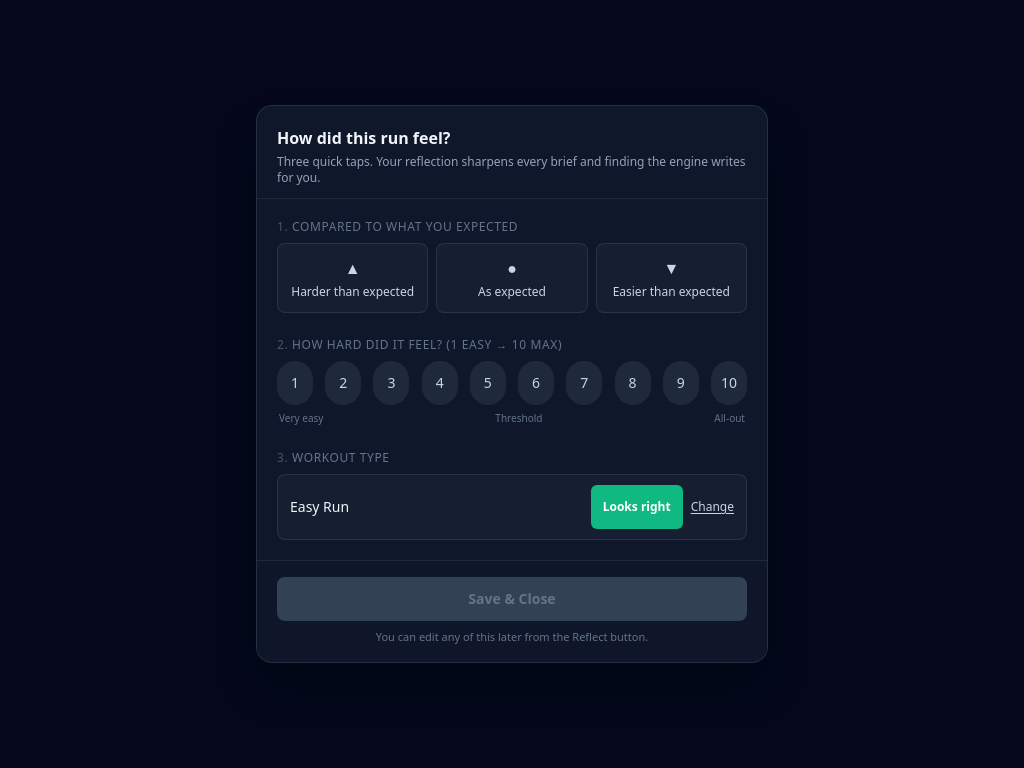
Test: FeedbackModal — save flow › failed save leaves the modal open with selections intact
Step 1. Click the button "▼ Easier than expected" → click(671, 278), box x1=596 y1=243 x2=747 y2=313
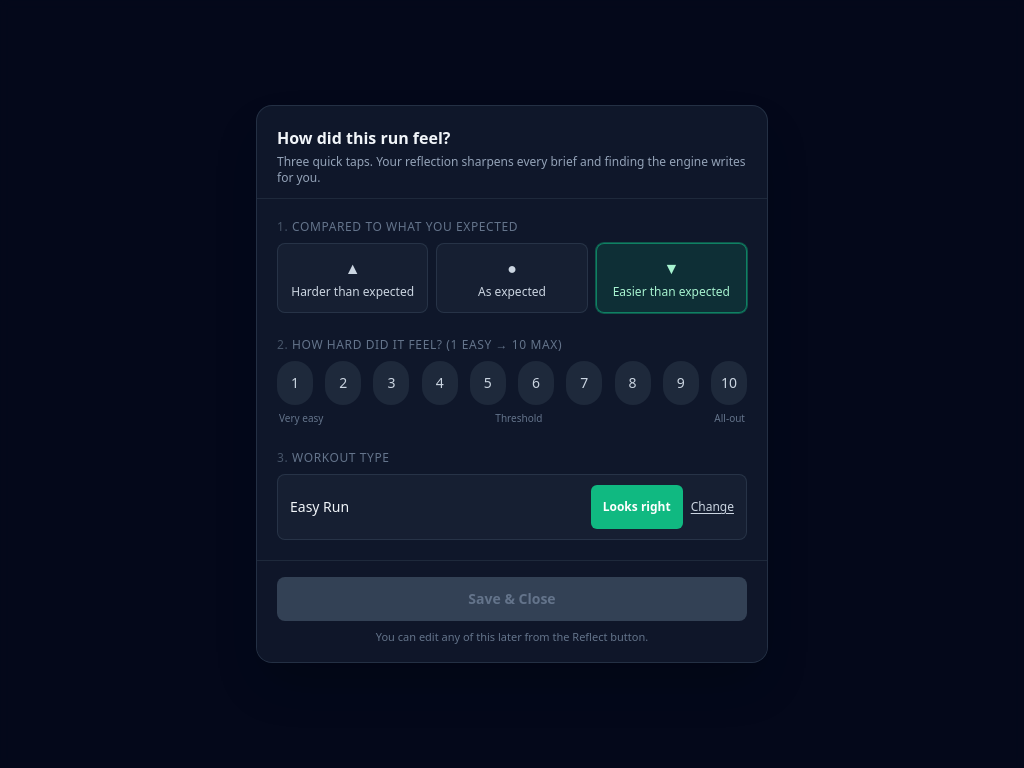
Step 2. Click the button "4" → click(440, 383), box x1=422 y1=361 x2=458 y2=405
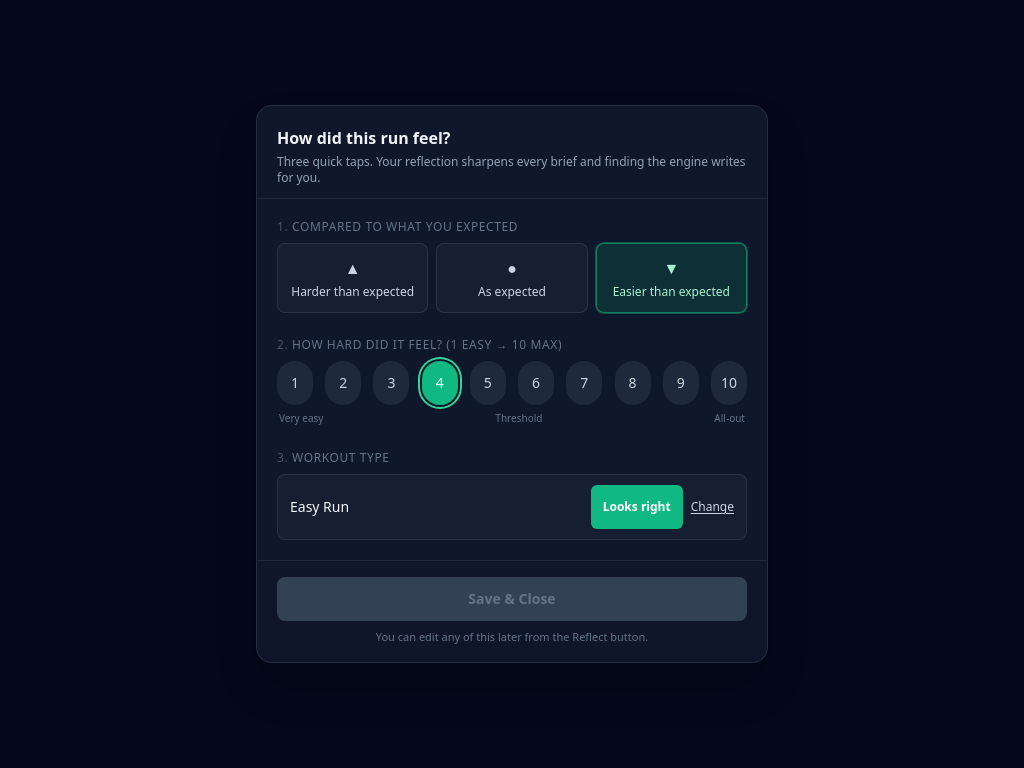
Step 3. Click the button "Looks right" → click(637, 507), box x1=591 y1=485 x2=683 y2=529
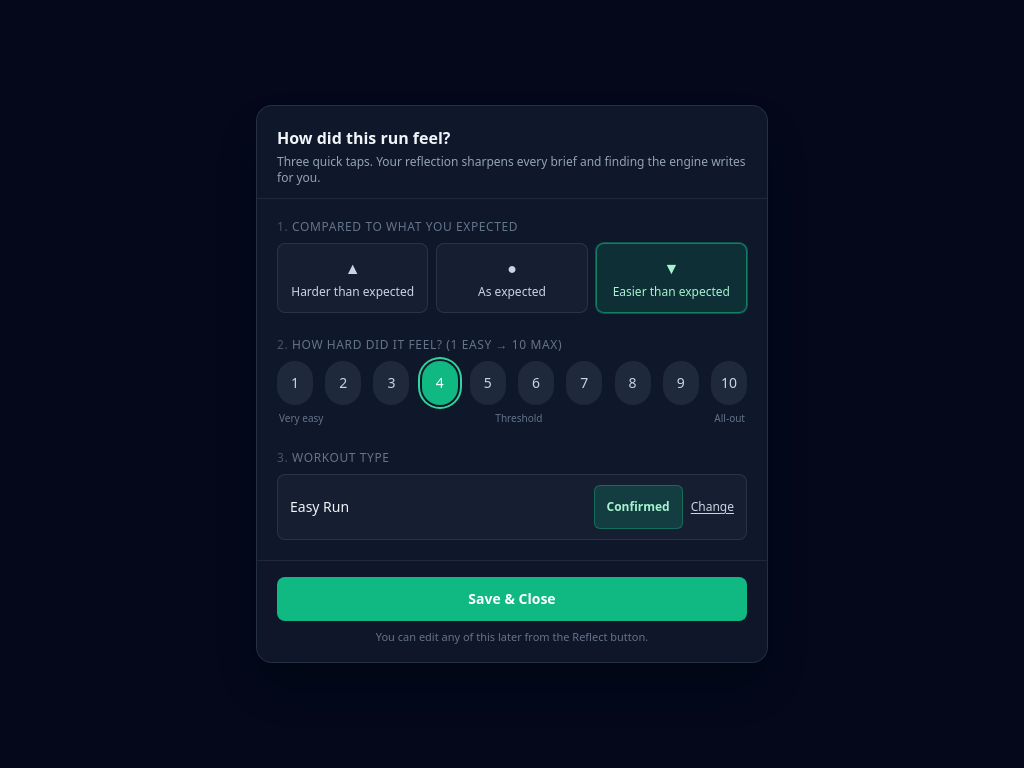
Now the button "Save & Close" is enabled
Step 4. Click the button "Save & Close" → click(512, 599), box x1=277 y1=577 x2=747 y2=621
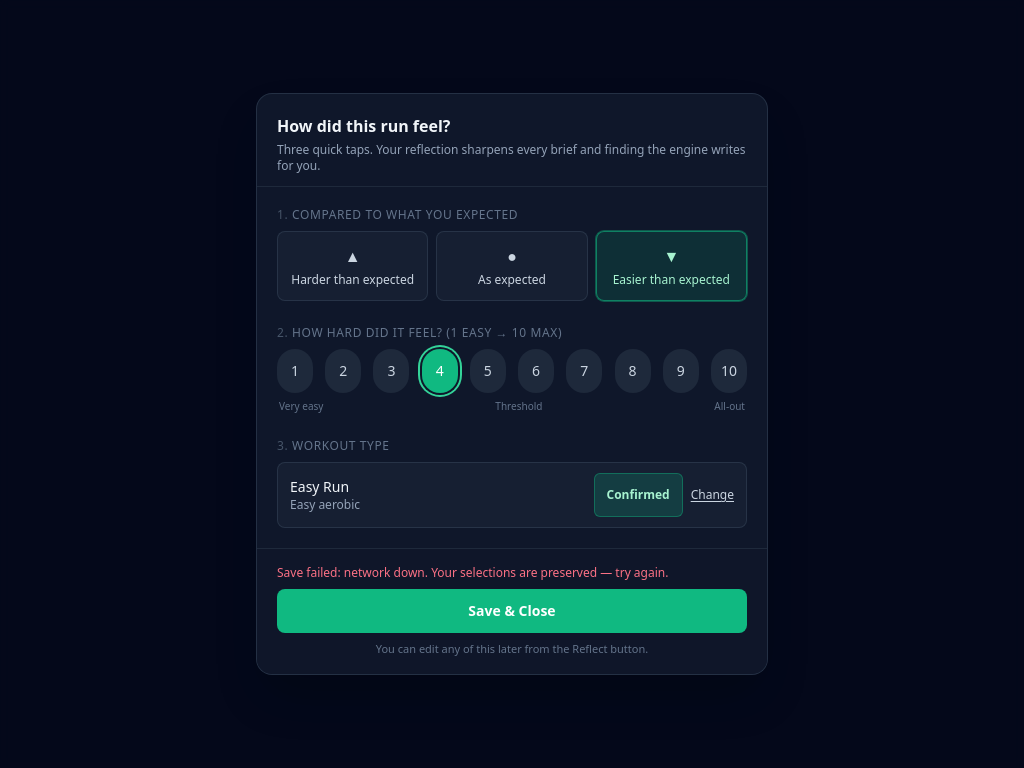
Now the button "Save & Close" is enabled, box x1=277 y1=589 x2=747 y2=633
Now the message shows "Save failed", box x1=277 y1=564 x2=344 y2=581
